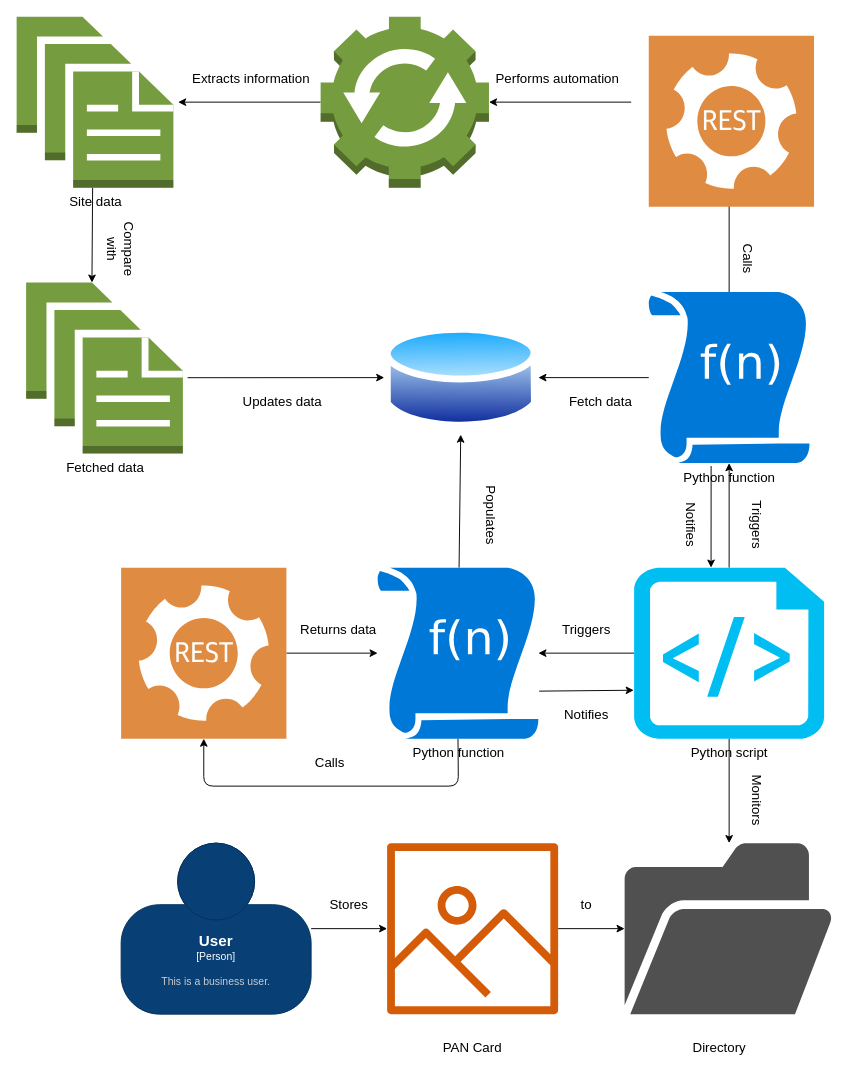
Some shapes in this 867 by 1078 pixel diagram are drawn without their labels. The centre of each missing label's shape, as x and y in pixels:
"Database" goes at (461,377).
"IDFy RapidAPI India - Pan card OCR API" goes at (203,652).
"IDFy RapidAPI Pan Card verification API" goes at (731,120).
